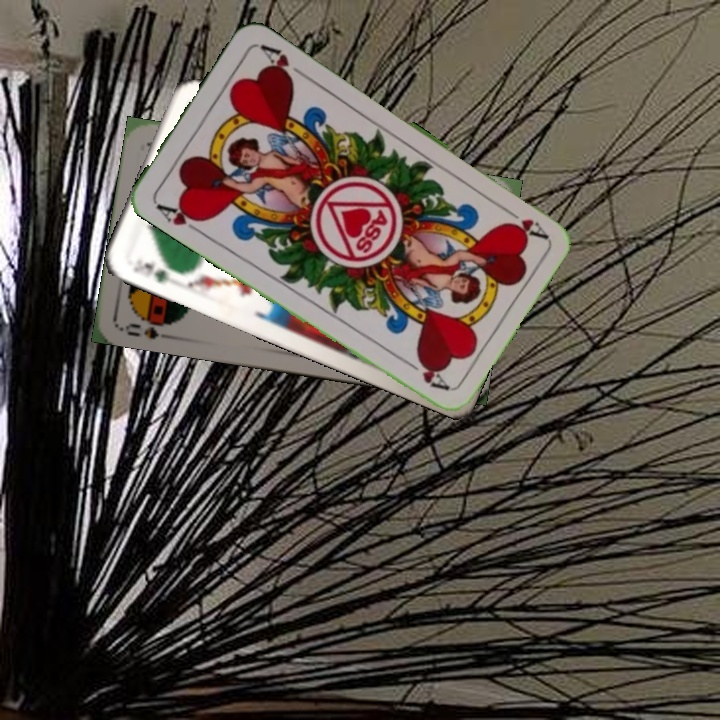GK: (129, 254, 173, 286)
HA: (496, 201, 549, 242), (151, 199, 207, 236)
SO: (118, 313, 179, 342)
